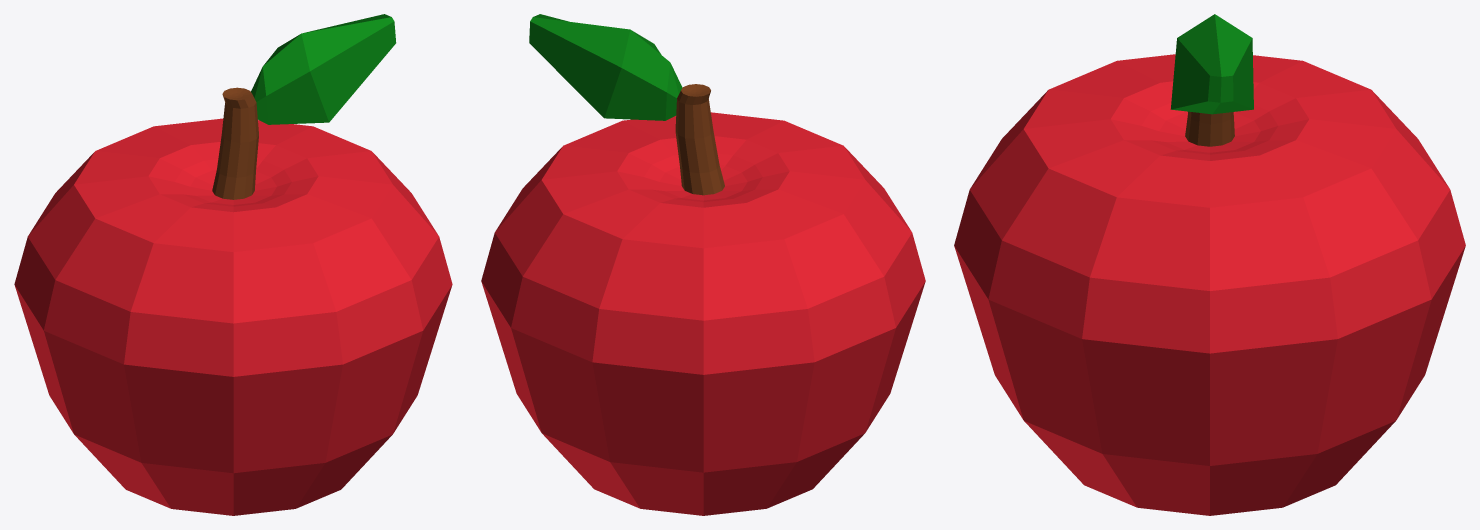
The model's file is apple2.fbx.
3 views of the same model, side by side, from view 1: azimuth 30°, elevation 25°; view 2: azimuth 150°, elevation 25°; view 3: azimuth 270°, elevation 25° (orthographic). The views are drawn at different scales.
Parts seen in each view (by area): view 1: Cube; view 2: Cube; view 3: Cube.
Boxes of the visible parts, <box> form: Cube: <box>14,14,452,515</box>; Cube: <box>481,14,925,515</box>; Cube: <box>954,14,1465,515</box>.
Size of the model in its own units: 204 by 229 by 204.
